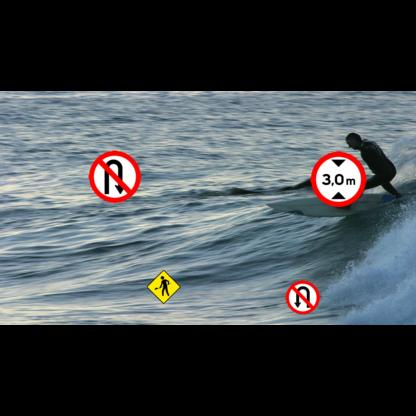A-24: (146, 270, 181, 304)
R-15: (310, 151, 366, 207)
R-5a: (285, 280, 320, 314)
